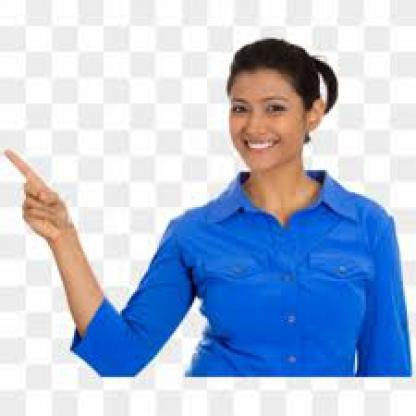Right: (2, 140, 78, 250)
